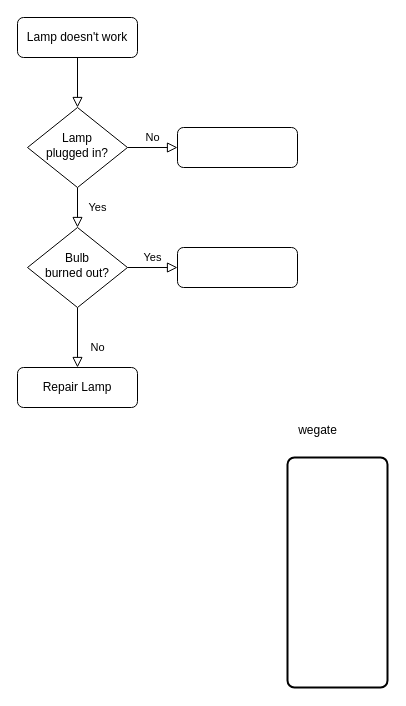
Some shapes in this 406 by 706 pixel diagram are drawn without their labels. Each missing label, with the box of its shape:
Plug in lamp: (176, 126, 298, 168)
Replace Bulb: (176, 246, 298, 288)
